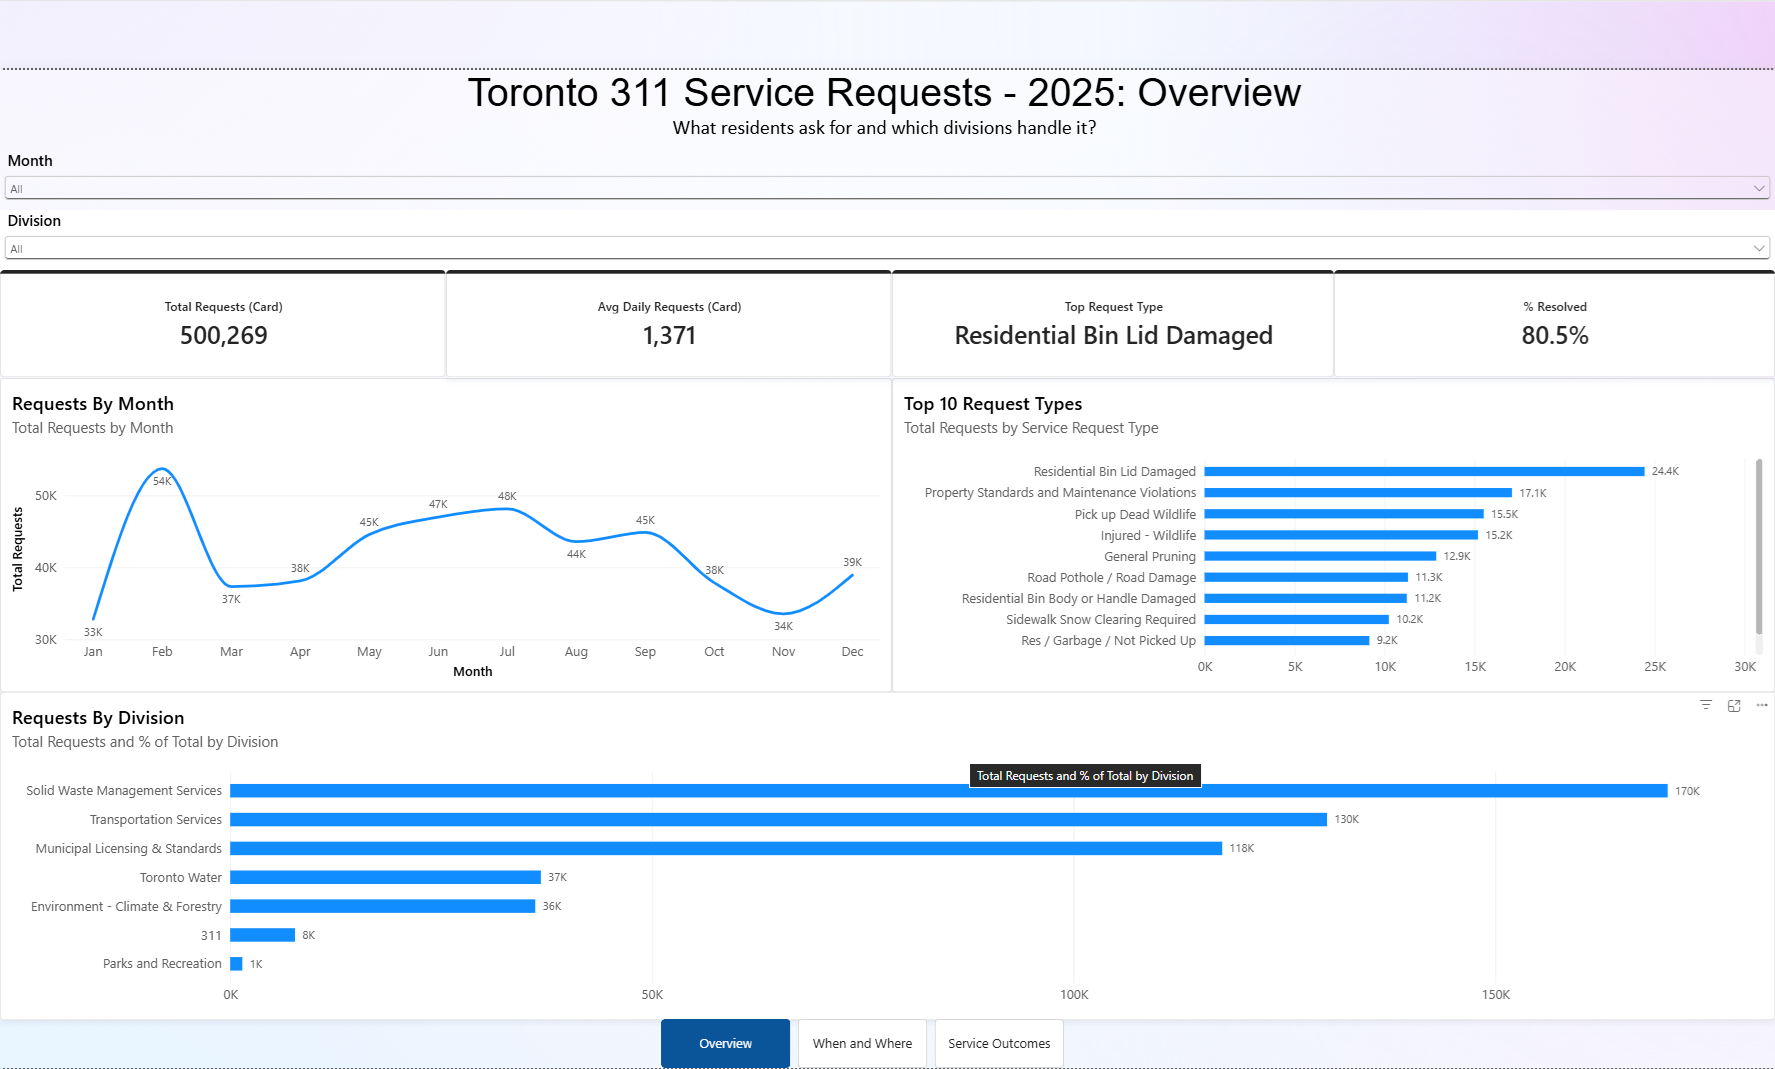

The dashboard page shown, as its layout file describes it:
{"tool":"powerbi","page":{"name":"Overview","canvas":[1920,1080],"ordinal":0},"visuals":[{"type":"textbox","box":[470.5,0,972.4,86.5],"z":0},{"type":"slicer","fields":{"Values":["Dim_Date.Month"]},"box":[0,86.4,1920,64.8],"z":1},{"type":"slicer","fields":{"Values":["Fact_311.Division"]},"box":[0,151.2,1920,64.8],"z":2},{"type":"cardVisual","fields":{"Data":["Measures (2).Total Requests (Card)"]},"box":[0,216.3,482.4,116.8],"z":3},{"type":"lineChart","title":"Requests By Month","fields":{"Category":["Dim_Date.Month"],"Y":["Measures (2).Total Requests"]},"box":[0,332.8,964.9,339.6],"z":7},{"type":"clusteredBarChart","title":"Top 10 Request Types","fields":{"Category":["311 Request.Service Request Type"],"Y":["Measures (2).Total Requests"]},"box":[964.9,332.8,955.1,339.6],"z":8},{"type":"barChart","title":"Requests By Division","fields":{"Category":["311 Request.Division"],"Y":["Measures (2).Total Requests"]},"box":[0,672.8,1920,354.8],"z":9},{"type":"cardVisual","fields":{"Data":["Measures (2).Avg Daily Requests (Card)"]},"box":[482.4,216.3,482.4,116.8],"z":10},{"type":"cardVisual","fields":{"Data":["Measures (2).Top Request Type"]},"box":[964.9,216.3,478.1,116.8],"z":11},{"type":"cardVisual","fields":{"Data":["Measures (2).% Resolved"]},"box":[1442.9,216,477.1,116.8],"z":12},{"type":"pageNavigator","box":[715,1026.5,438.1,53],"z":13}]}

Visuals, with their boxes on the page's 1920x1080 design canvas (x1, y1, x2, y2). These are canvas units, not pixel positions in the 1775x1069 screenshot, which may show the page scaled, cropped or inside an application window:
textbox: x1=470 y1=0 x2=1443 y2=86
slicer - Dim_Date.Month: x1=0 y1=86 x2=1920 y2=151
slicer - Fact_311.Division: x1=0 y1=151 x2=1920 y2=216
cardVisual - Measures (2).Total Requests (Card): x1=0 y1=216 x2=482 y2=333
"Requests By Month" lineChart: x1=0 y1=333 x2=965 y2=672
"Top 10 Request Types" clusteredBarChart: x1=965 y1=333 x2=1920 y2=672
"Requests By Division" barChart: x1=0 y1=673 x2=1920 y2=1028
cardVisual - Measures (2).Avg Daily Requests (Card): x1=482 y1=216 x2=965 y2=333
cardVisual - Measures (2).Top Request Type: x1=965 y1=216 x2=1443 y2=333
cardVisual - Measures (2).% Resolved: x1=1443 y1=216 x2=1920 y2=333
pageNavigator: x1=715 y1=1026 x2=1153 y2=1080
